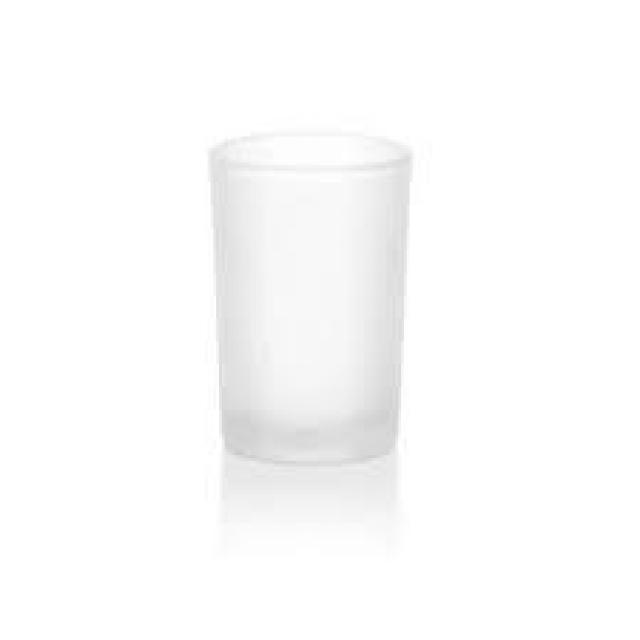non-organic waste: (209, 131, 414, 466)
